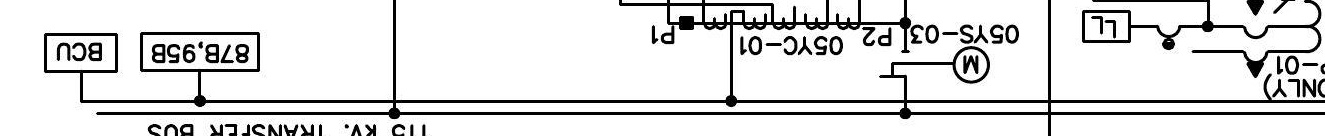115_1way_ds_w_motor: (878, 45, 991, 85)
BCU: (43, 32, 119, 74)
LL: (1081, 9, 1132, 44)
